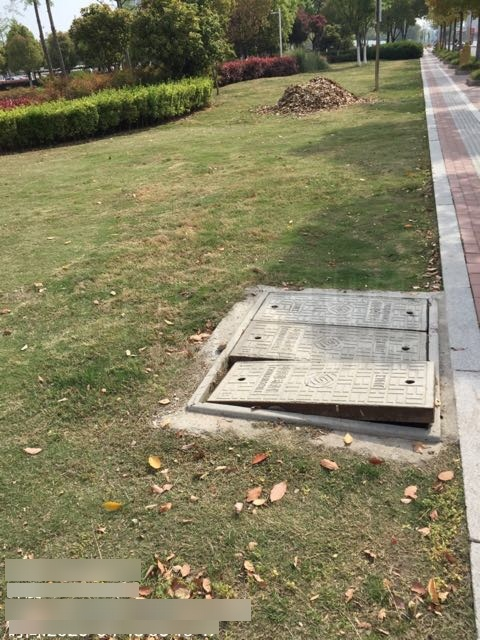uncovered: (183, 286, 445, 440)
